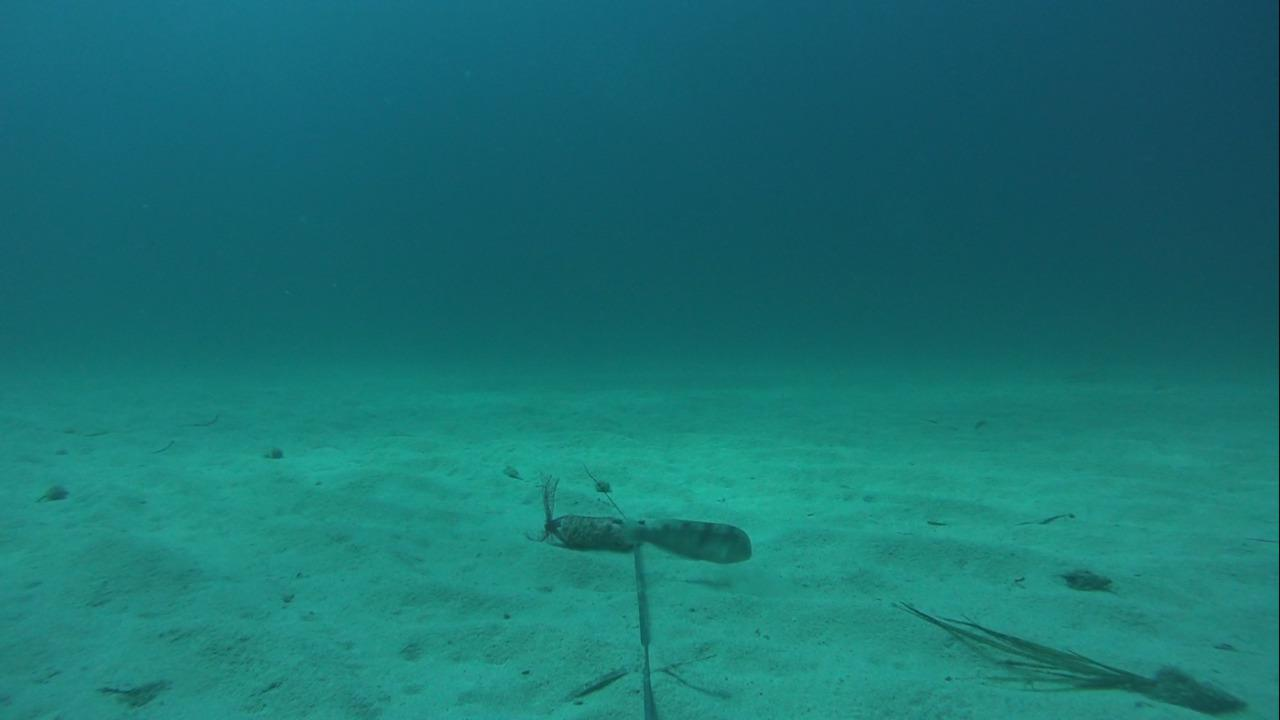raor: (616, 518, 755, 566)
